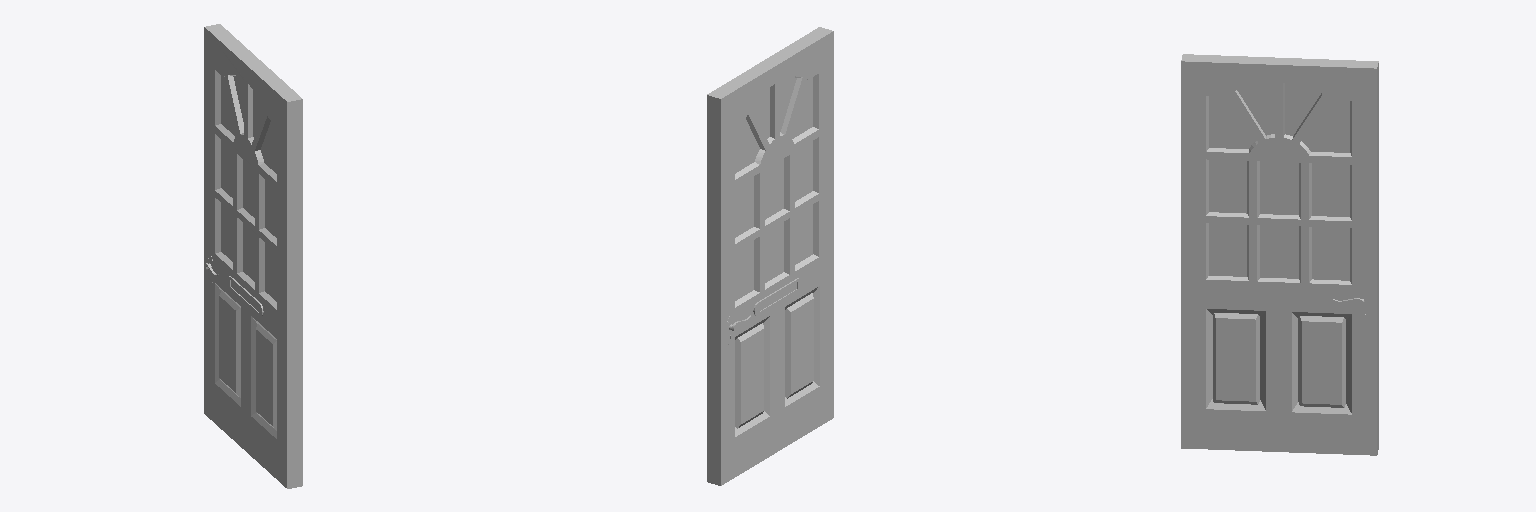
Rendered from door2_000017.obj.
3 views of the same model, side by side, from view 1: azimuth 30°, elevation 25°; view 2: azimuth 150°, elevation 25°; view 3: azimuth 270°, elevation 25° (orthographic).
Visible parts, largest first — view 1: Door.000_Door.004; view 2: Door.000_Door.004; view 3: Door.000_Door.004.
Part boxes in pixels (bbox=[...]): Door.000_Door.004: bbox=[204, 24, 302, 488]; Door.000_Door.004: bbox=[707, 27, 833, 485]; Door.000_Door.004: bbox=[1181, 54, 1378, 455].
Bounding box in the file's own units: 0.1487 × 1.6 × 0.7423.